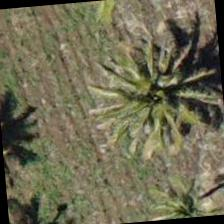Kelapa_Sawit: (107, 51, 205, 149), (137, 163, 223, 222)
